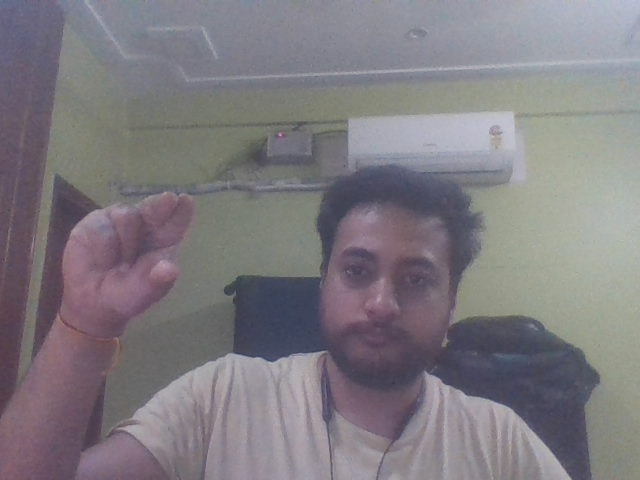No: (39, 171, 230, 349)
